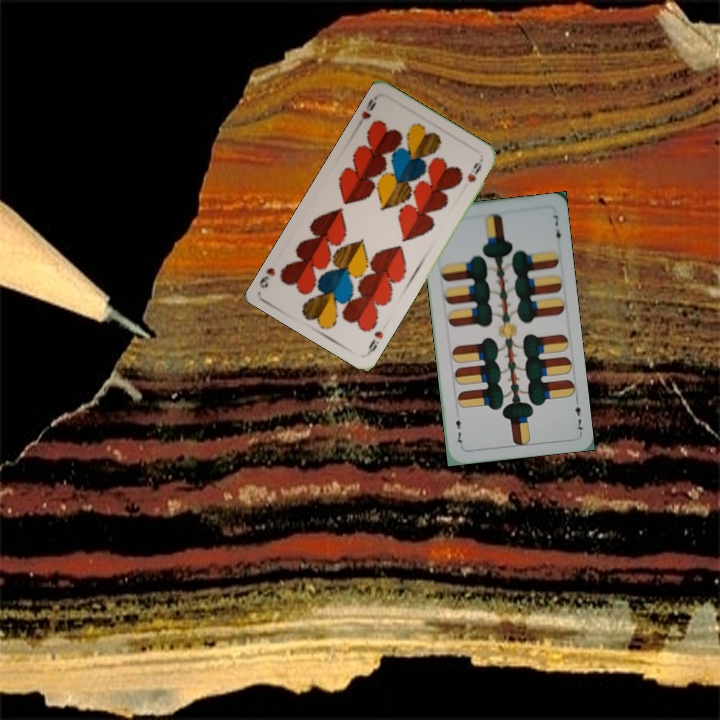E7: (571, 395, 585, 435)
H9: (353, 93, 379, 130), (364, 326, 386, 357)
